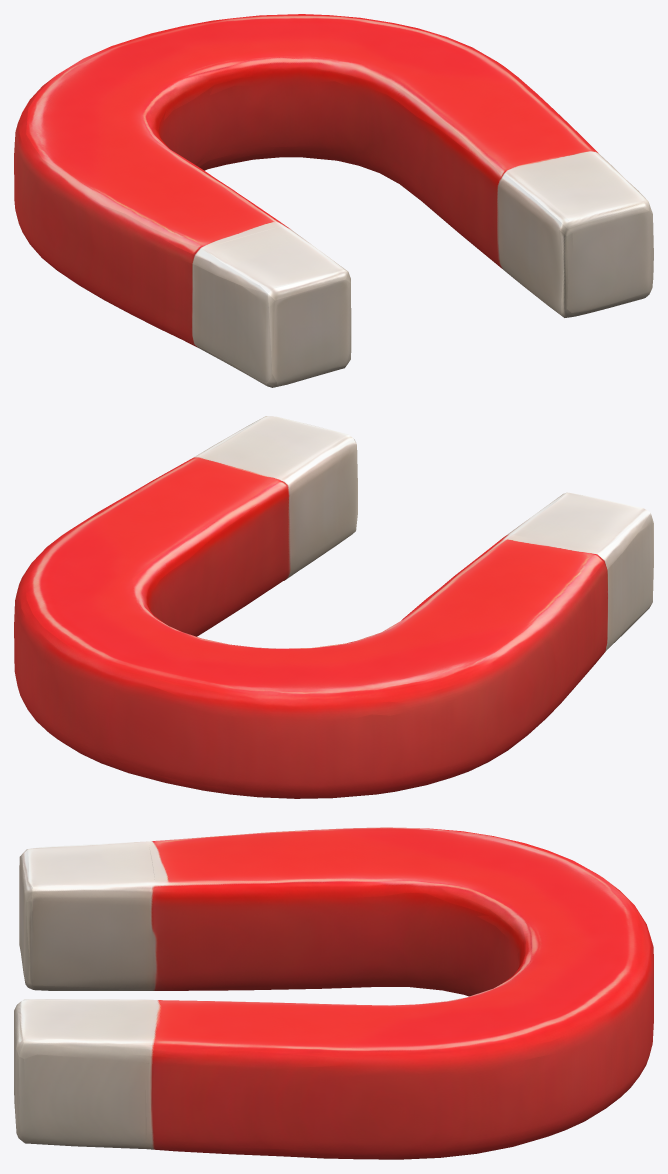
3 views of the same model, one above another, from view 1: azimuth 30°, elevation 25°; view 2: azimuth 150°, elevation 25°; view 3: azimuth 270°, elevation 25° (orthographic). The views are drawn at different scales.
Parts seen in each view (by area): view 1: model; view 2: model; view 3: model.
Part boxes in pixels (x1,y1,x2,y2): model: (14, 14, 653, 387); model: (14, 416, 653, 798); model: (14, 827, 653, 1159).
Size of the model in its own units: 1.66 by 0.3632 by 1.9.
1 material, 1 textured.
